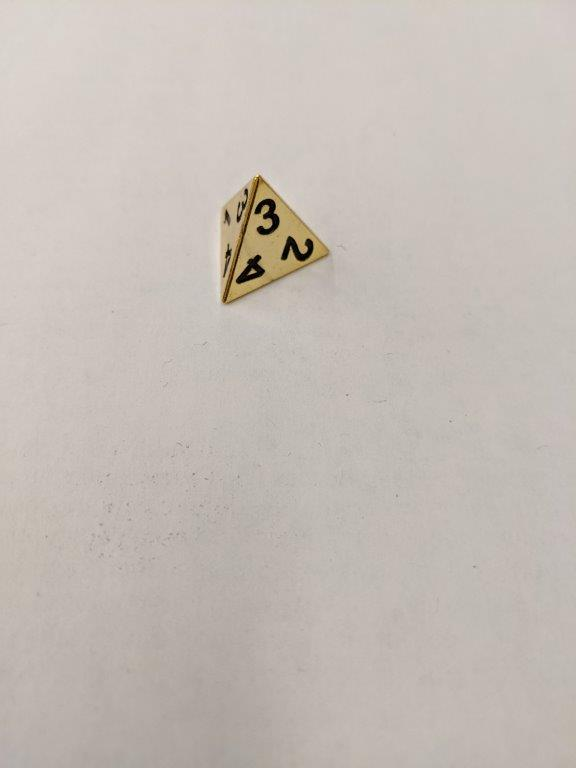d4-3: (214, 173, 337, 309)
